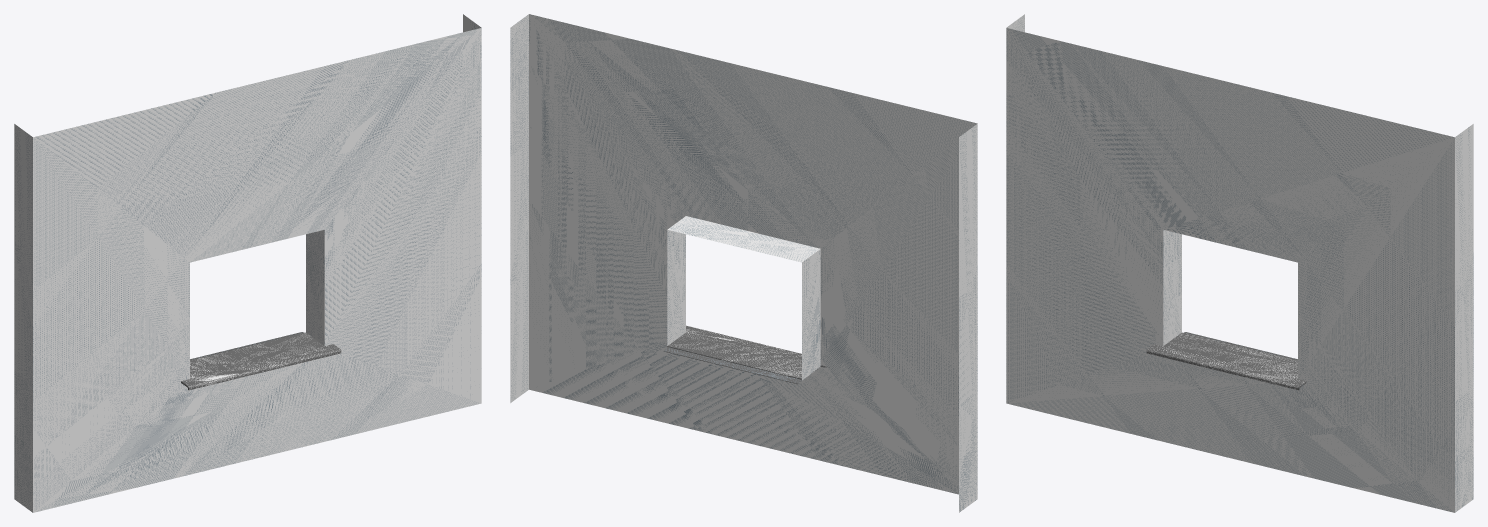
The model's file is WindowBlock_os_[500x400]_150x124x[100].dae.
3 renders of one model, left to right at view 1: azimuth 30°, elevation 25°; view 2: azimuth 150°, elevation 25°; view 3: azimuth 330°, elevation 25°, orthographic.
Parts seen in each view (by area): view 1: group_1 (×2), group_2; view 2: group_1 (×2), group_2 (×2); view 3: group_1 (×2), group_2.
Part boxes in pixels (box(x1,y1,x2,y2)): group_1 (×2): box(14, 14, 481, 512); group_2: box(181, 332, 341, 390); group_1 (×2): box(510, 14, 977, 512); group_2 (×2): box(663, 325, 829, 384); group_1 (×2): box(1006, 14, 1473, 512); group_2: box(1146, 332, 1306, 390).
Bounding box in the file's own units: 197 × 23.03 × 157.
